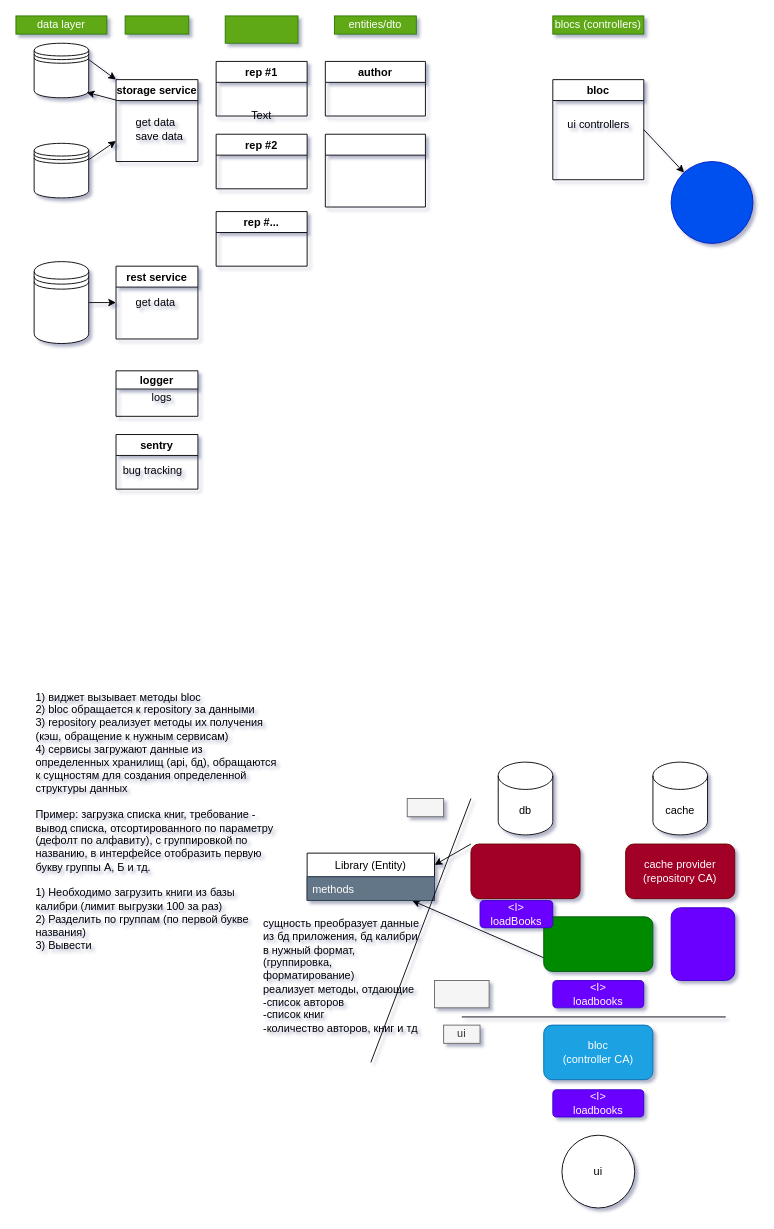
The diagram is 774 pixels wide and 1229 high, and some of its shapes have lost their labels. The shapes that lost their labels are listed below. From the top down, each one's centre as x and y in pixels, then its label:
the point at 156,24: providers
the point at 261,29: repositories (use cases)
the point at 61,70: app db
the point at 61,170: calibre db
the point at 374,170: book
the point at 711,202: ui (widgets)
the point at 61,302: open web api
the point at 425,807: data
the point at 525,871: db provider
the point at 598,943: repository (use case CA)
the point at 702,944: <I> hasBooks getBooks
the point at 461,994: business logic
